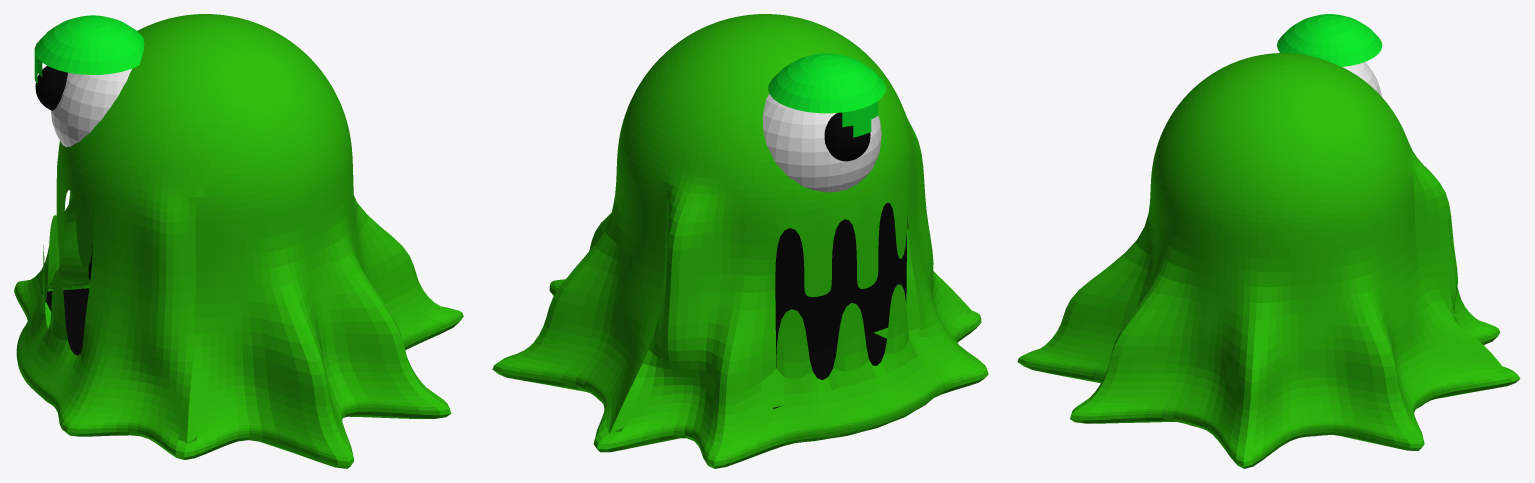
Rendered from huekrash.fbx.
The picture shows the model from 3 angles, left to right: view 1: azimuth 30°, elevation 25°; view 2: azimuth 150°, elevation 25°; view 3: azimuth 270°, elevation 25°; orthographic projection. The views are drawn at different scales.
Parts seen in each view (by area): view 1: Esfera UV, Esfera UV.003, Esfera UV.001, Plano.001, Esfera UV.002; view 2: Esfera UV, Plano, Esfera UV.001, Esfera UV.003, Esfera UV.002, Plano.001; view 3: Esfera UV, Esfera UV.003.
Part boxes in pixels (x1,y1,x2,y2): Esfera UV: [14, 14, 463, 468]; Esfera UV.003: [34, 15, 144, 84]; Esfera UV.001: [51, 69, 131, 146]; Plano.001: [41, 288, 89, 355]; Esfera UV.002: [35, 66, 67, 110]; Esfera UV: [492, 14, 988, 468]; Plano: [775, 202, 907, 366]; Esfera UV.001: [762, 94, 881, 192]; Esfera UV.003: [768, 53, 885, 137]; Esfera UV.002: [824, 112, 870, 161]; Plano.001: [772, 332, 886, 408]; Esfera UV: [1017, 53, 1520, 468]; Esfera UV.003: [1277, 14, 1382, 66].
Size of the model in its own units: 683 by 560 by 793.
